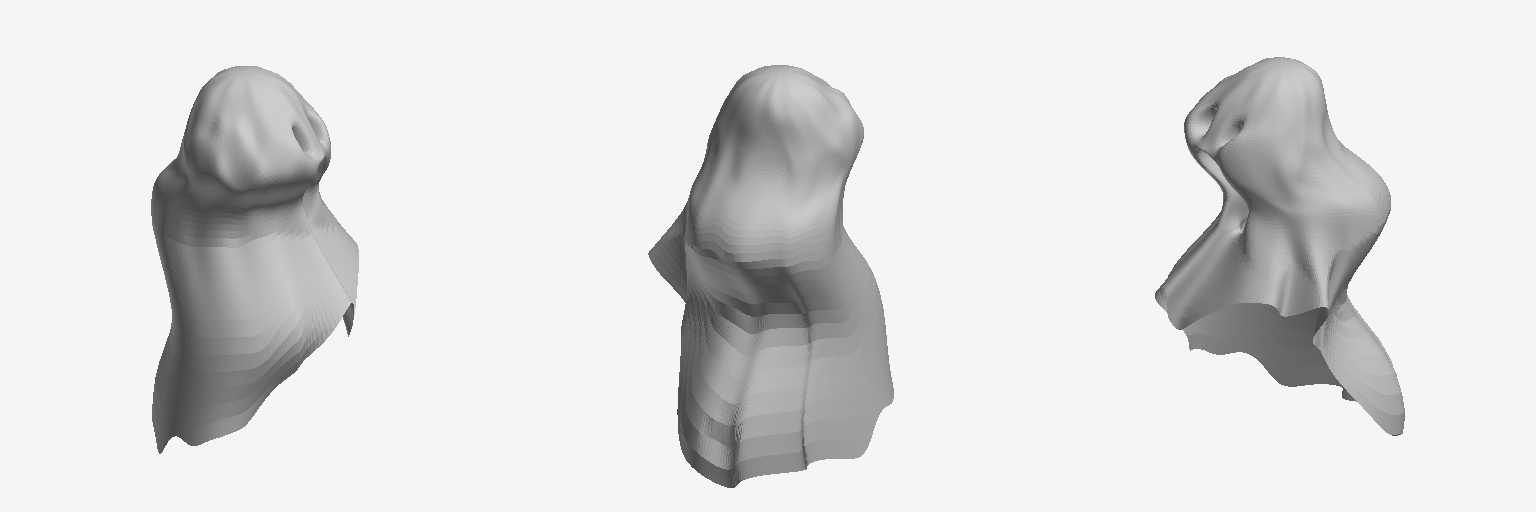
File: ghost7.obj
3 renders of one model, left to right at view 1: azimuth 30°, elevation 25°; view 2: azimuth 150°, elevation 25°; view 3: azimuth 270°, elevation 25°, orthographic.
Visible parts, largest first — view 1: 球体; view 2: 球体; view 3: 球体.
Part boxes in pixels (x1,y1,x2,y2): 球体: (151, 66, 358, 453); 球体: (648, 65, 893, 487); 球体: (1155, 57, 1404, 435).
Size of the model in its own units: 8.62 by 15.89 by 9.64.